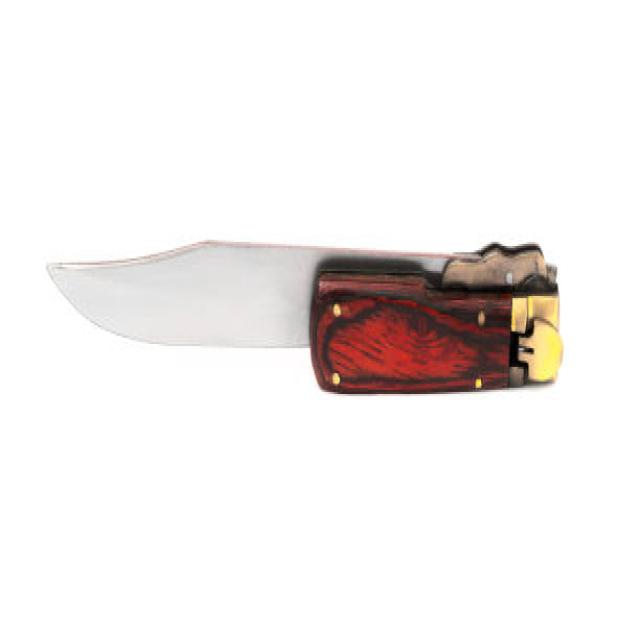knife: (43, 232, 565, 402)
